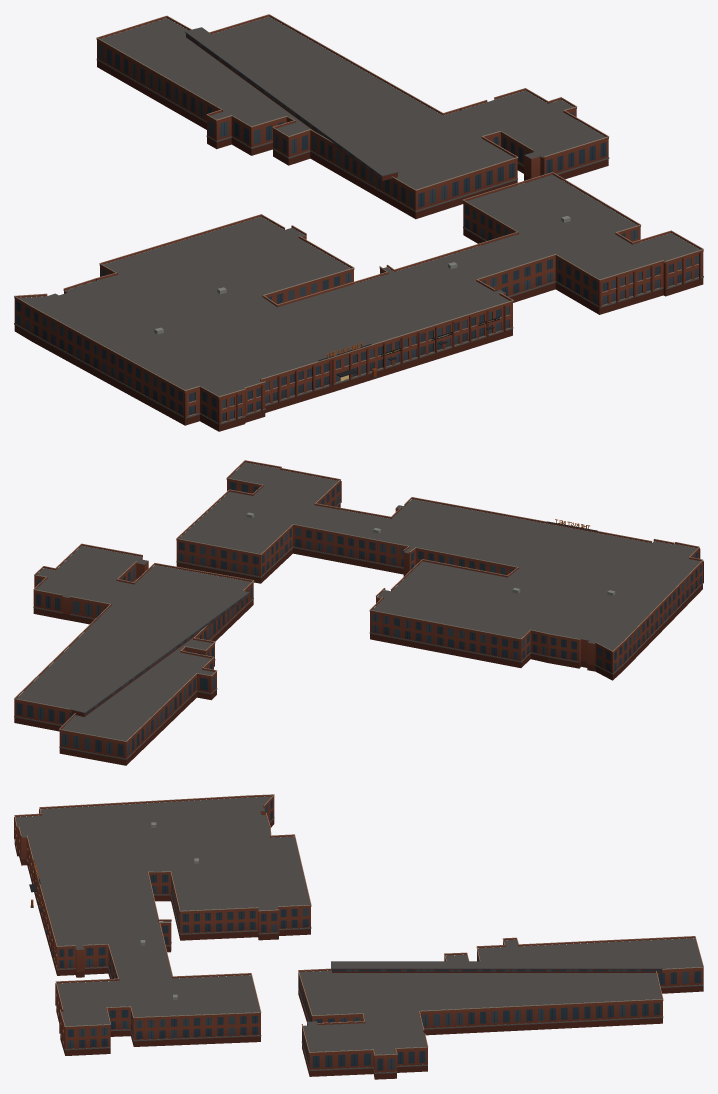
The model's file is rustbelt.glb.
3 renders of one model, top to bottom at view 1: azimuth 30°, elevation 25°; view 2: azimuth 150°, elevation 25°; view 3: azimuth 270°, elevation 25°, orthographic. The views are drawn at different scales.
Parts seen in each view (by area): view 1: rustbelt_lod0; view 2: rustbelt_lod0; view 3: rustbelt_lod0.
Boxes of the visible parts, bbox=[...] form: rustbelt_lod0: bbox=[14, 14, 703, 431]; rustbelt_lod0: bbox=[14, 460, 703, 765]; rustbelt_lod0: bbox=[14, 794, 703, 1079].
Size of what is drawn, in the model's own units: 282 by 17.37 by 322.
